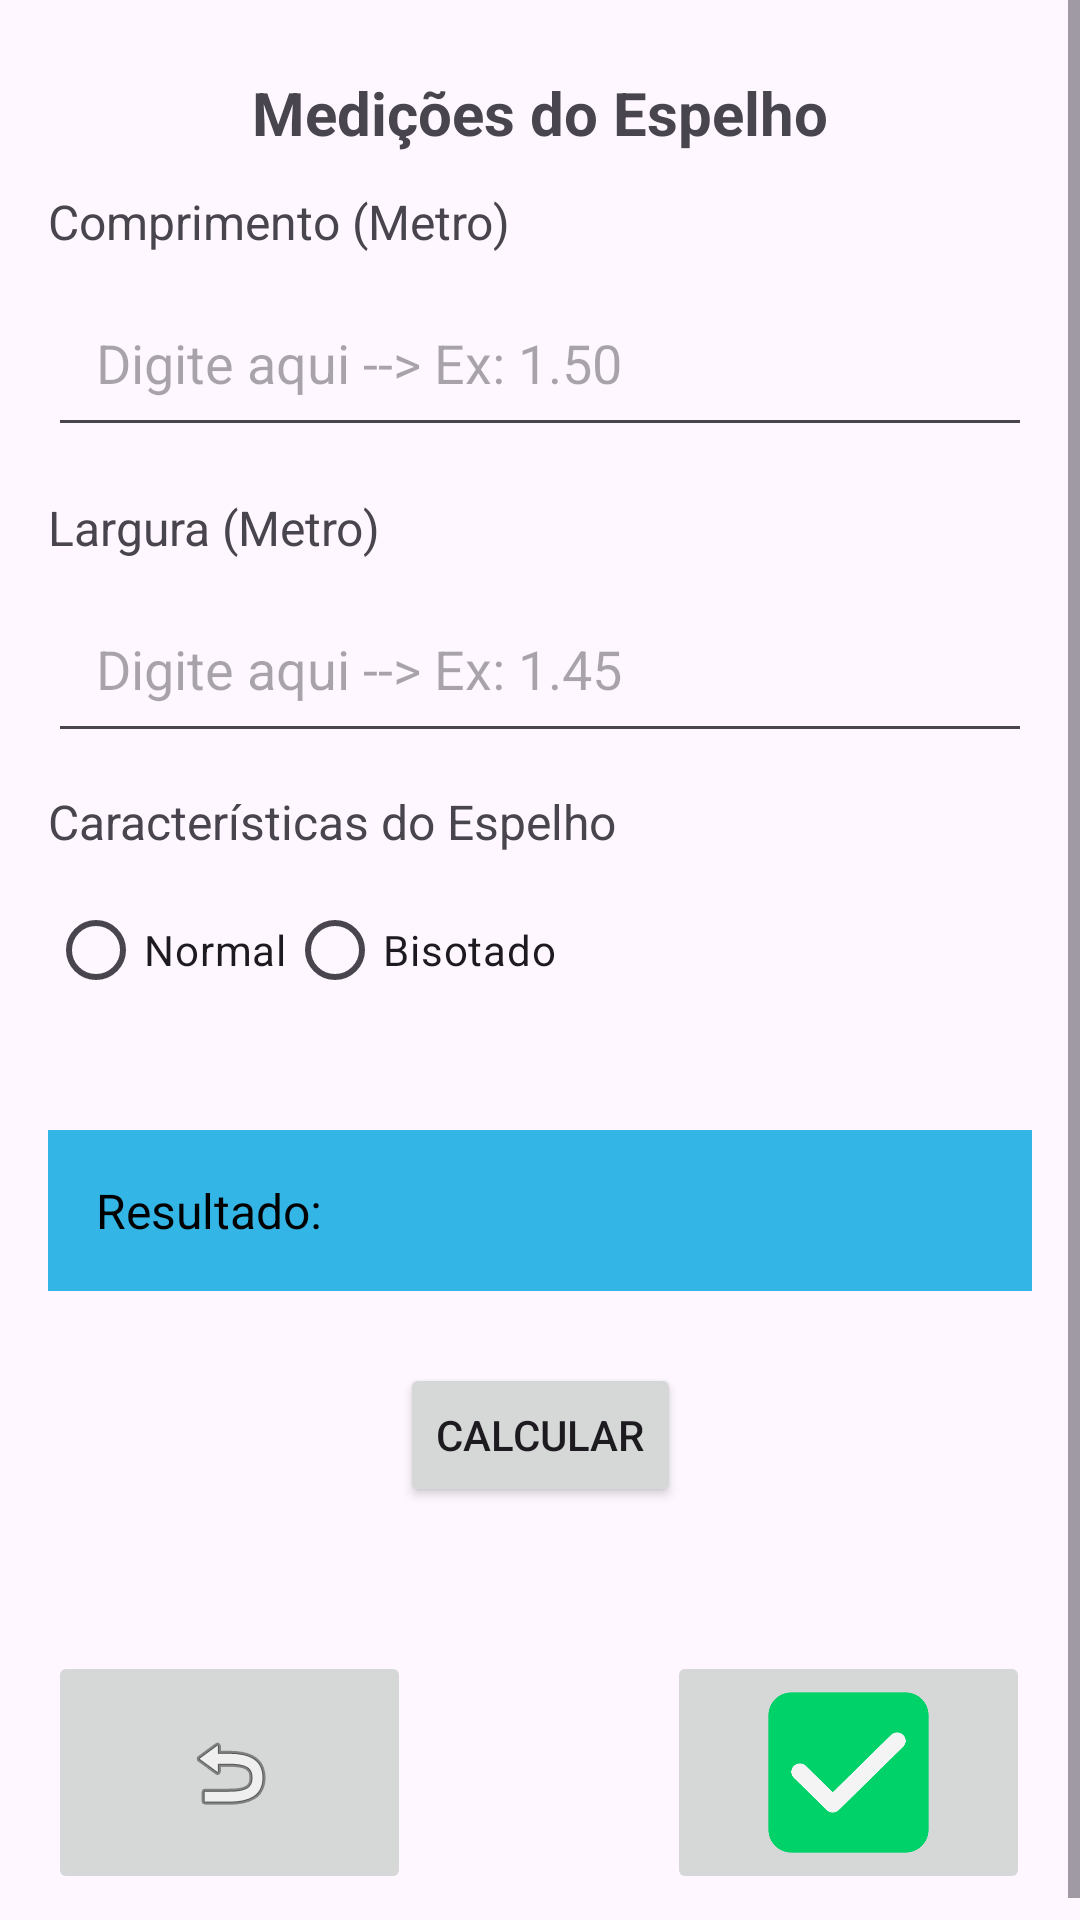

Screen size 1080 x 1920. Icon name, then its box in pixels as [x1, y1, x2, y2]:
Prosseguir: [679, 1669, 1018, 1876]
Voltar: [60, 1669, 399, 1876]
